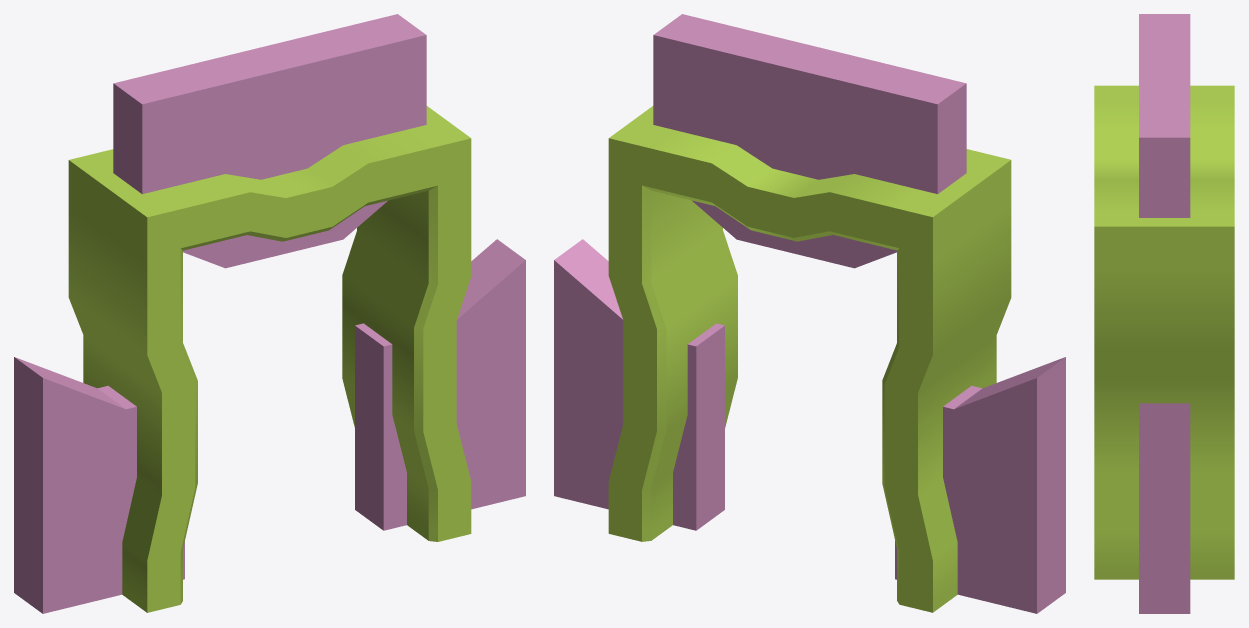
Rendered from normal_doorclose.FBX.
3 renders of one model, left to right at view 1: azimuth 30°, elevation 25°; view 2: azimuth 150°, elevation 25°; view 3: azimuth 270°, elevation 25°, orthographic. The views are drawn at different scales.
Visible parts, largest first — view 1: Box002; view 2: Box002; view 3: Box002.
Part boxes in pixels (box(x1,y1,x2,y2)): Box002: box(14, 14, 525, 613); Box002: box(554, 14, 1065, 613); Box002: box(1094, 14, 1234, 613).
Bounding box in the file's own units: 24585 × 23615 × 6922.
